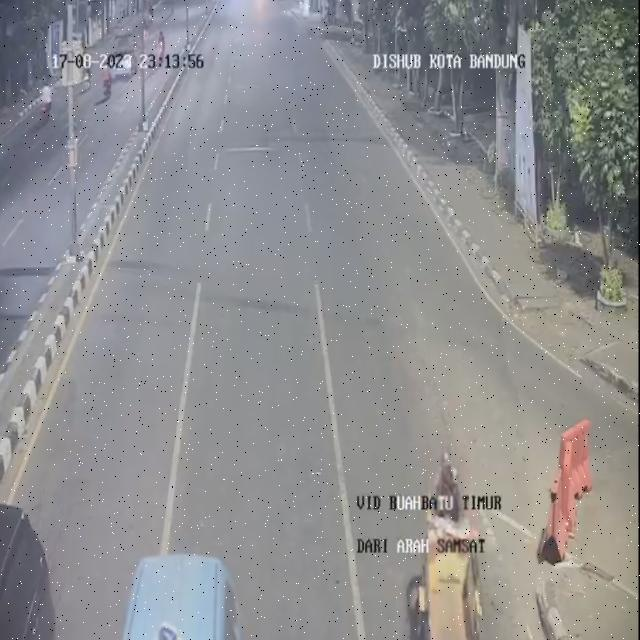cars: (108, 535, 252, 640), (0, 495, 56, 640)
motorcycle: (431, 448, 469, 579)
